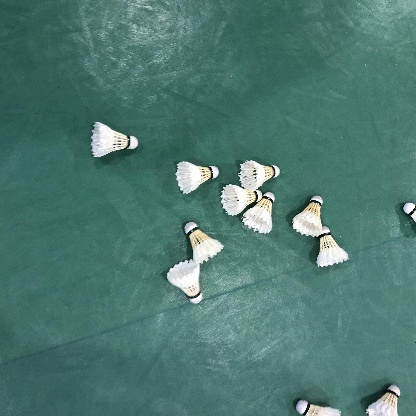ball_single: (184, 222, 224, 265), (90, 122, 139, 157), (166, 258, 202, 304), (175, 161, 219, 194), (242, 192, 275, 234), (316, 226, 349, 267), (220, 184, 262, 216), (238, 160, 280, 191), (292, 195, 323, 237), (366, 385, 400, 416), (296, 400, 341, 416), (403, 202, 416, 222)
